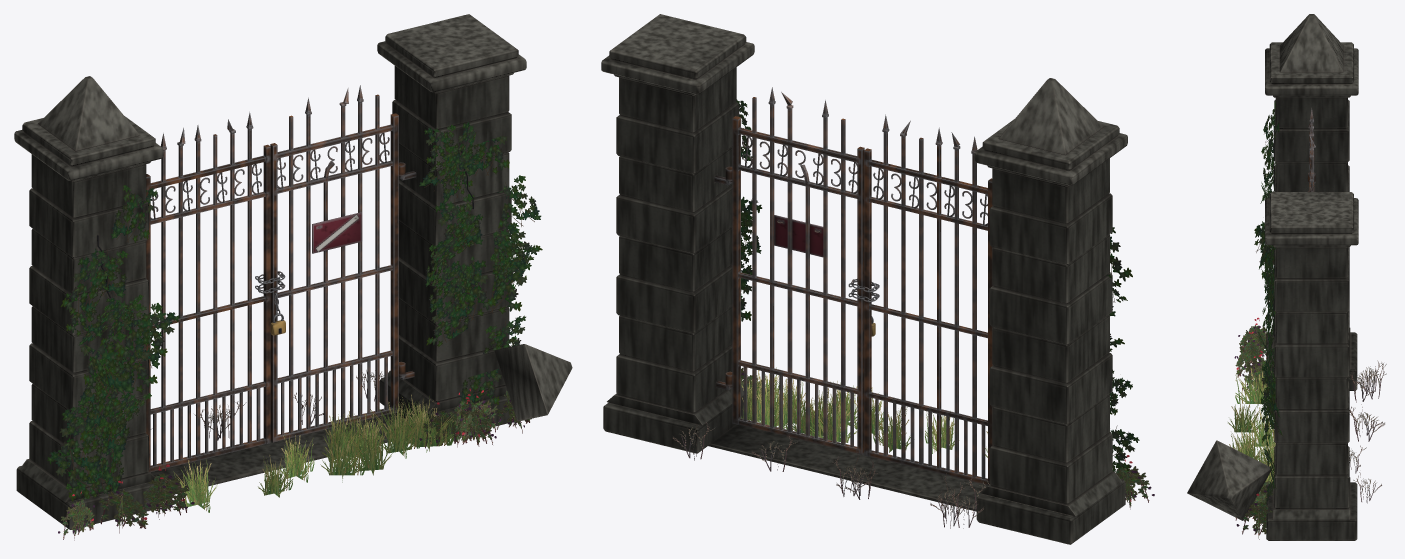
The model's file is GateChained.fbx.
3 views of the same model, side by side, from view 1: azimuth 30°, elevation 25°; view 2: azimuth 150°, elevation 25°; view 3: azimuth 270°, elevation 25° (orthographic). The views are drawn at different scales.
Parts seen in each view (by area): view 1: GateChained_Main, GateChained_Leaves, GateChained_Leaf1, GateChained_Leaf0, GateChained_Chain; view 2: GateChained_Main, GateChained_Leaf1, GateChained_Leaf0, GateChained_Leaves; view 3: GateChained_Main, GateChained_Leaves, GateChained_Leaf0.
Boxes of the visible parts, left/top/right/bottom form: GateChained_Main: left=14, top=14, right=572, bottom=529; GateChained_Leaves: left=47, top=121, right=542, bottom=540; GateChained_Leaf1: left=270, top=85, right=405, bottom=442; GateChained_Leaf0: left=145, top=112, right=270, bottom=472; GateChained_Chain: left=255, top=271, right=285, bottom=335; GateChained_Main: left=601, top=14, right=1127, bottom=544; GateChained_Leaf1: left=725, top=87, right=864, bottom=454; GateChained_Leaf0: left=864, top=114, right=992, bottom=485; GateChained_Leaves: left=672, top=99, right=1154, bottom=528; GateChained_Main: left=1187, top=14, right=1358, bottom=540; GateChained_Leaves: left=1228, top=101, right=1386, bottom=539; GateChained_Leaf0: left=1308, top=108, right=1315, bottom=191.
Size of the model in its own units: 1109 by 891 by 460.
